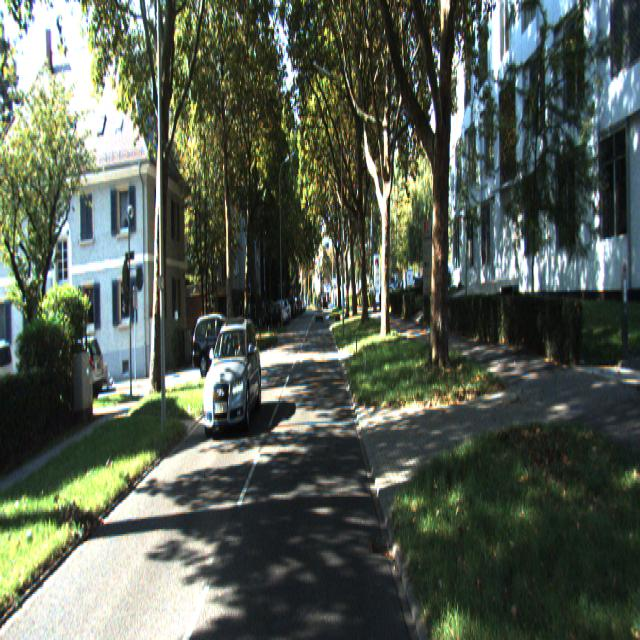Car: (202, 322, 262, 438), (194, 310, 250, 373)
